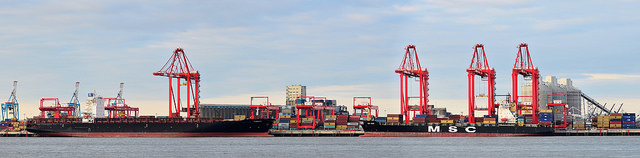container_ship: (25, 89, 275, 137), (359, 97, 550, 136)
